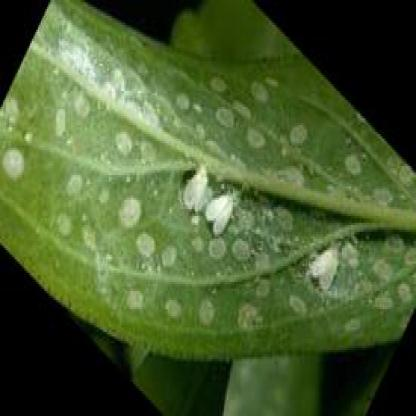whitefly: (184, 162, 210, 215), (309, 246, 340, 289), (204, 195, 233, 235)
